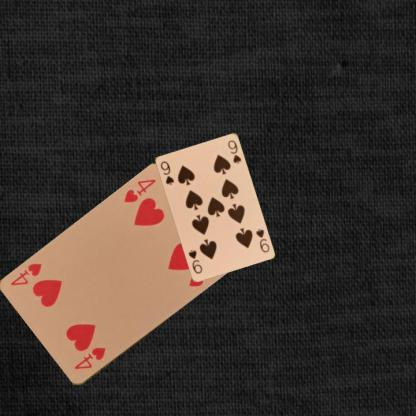4h: (120, 176, 157, 205), (71, 344, 107, 372)
9s: (158, 158, 175, 186), (253, 226, 270, 254)
